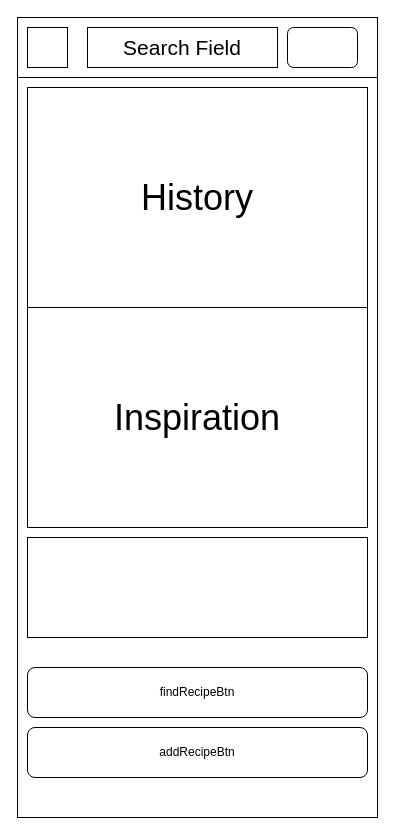
Some shapes in this 395 by 835 pixel diagram are drawn without their labels. Here are the shapes that lost their labels. From the top down, the centre of each, then its label:
the point at 47,47: Nav
the point at 322,47: srcBtn
the point at 197,587: Stats
